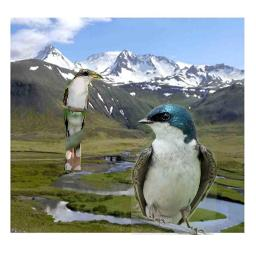Cuckoo: (62, 69, 103, 170)
Swallow: (131, 102, 217, 235)
